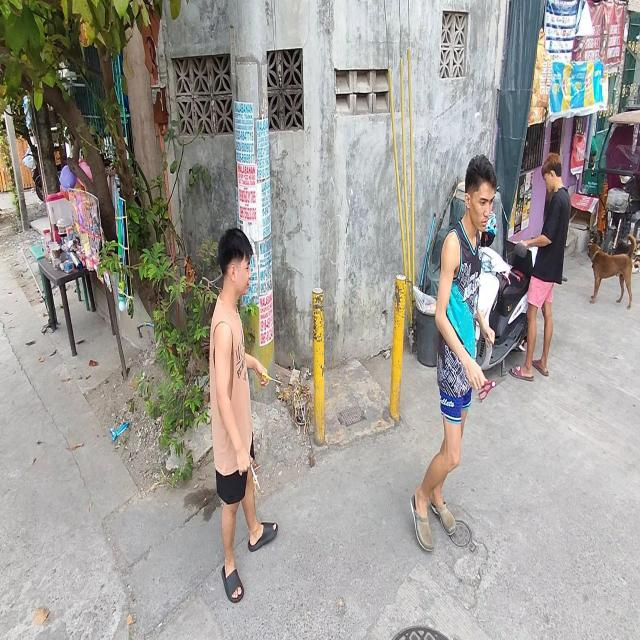scissor: (478, 377, 506, 400), (262, 373, 282, 385)
